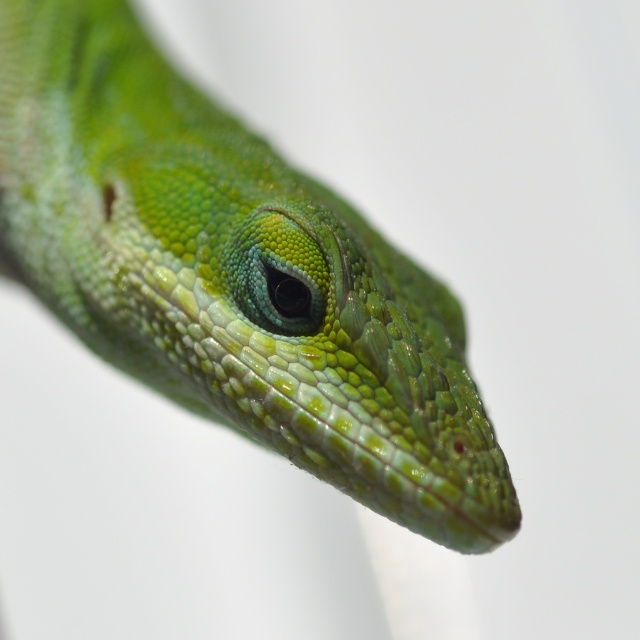Lizard: (0, 0, 521, 555)
